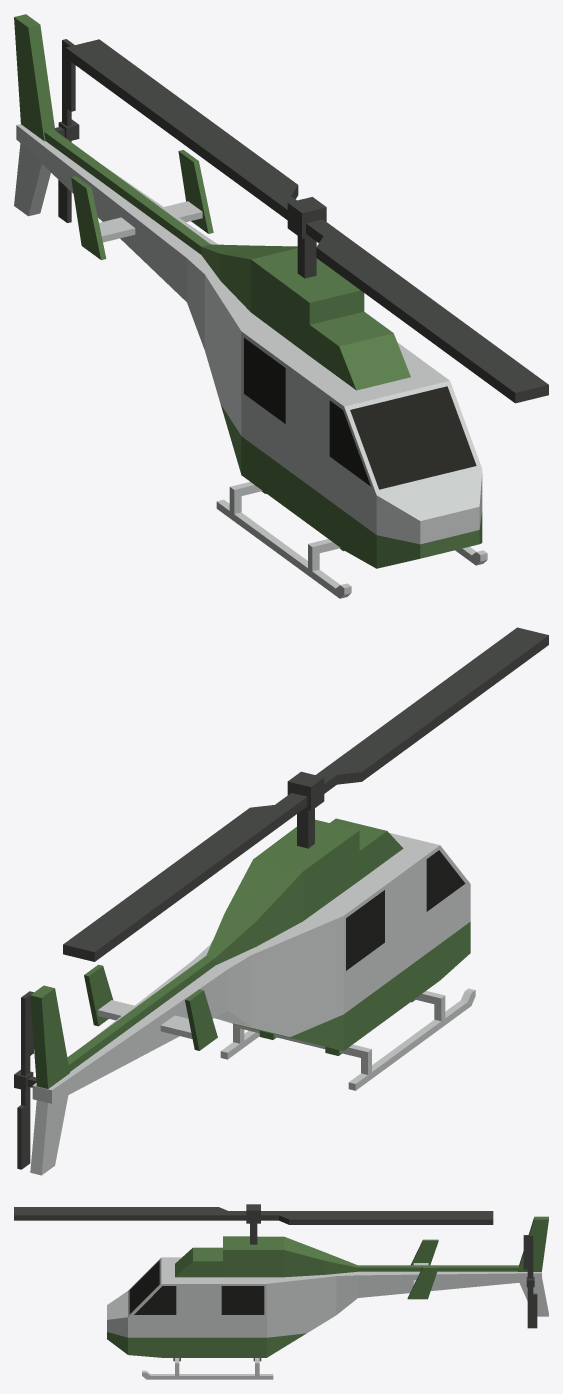
File: Veh_Helicopter_01_Green.obj
The picture shows the model from 3 angles, top to bottom: view 1: azimuth 30°, elevation 25°; view 2: azimuth 150°, elevation 25°; view 3: azimuth 270°, elevation 25°; orthographic projection. The views are drawn at different scales.
Bounding box in the file's own units: 1.02 × 2.05 × 6.44.
